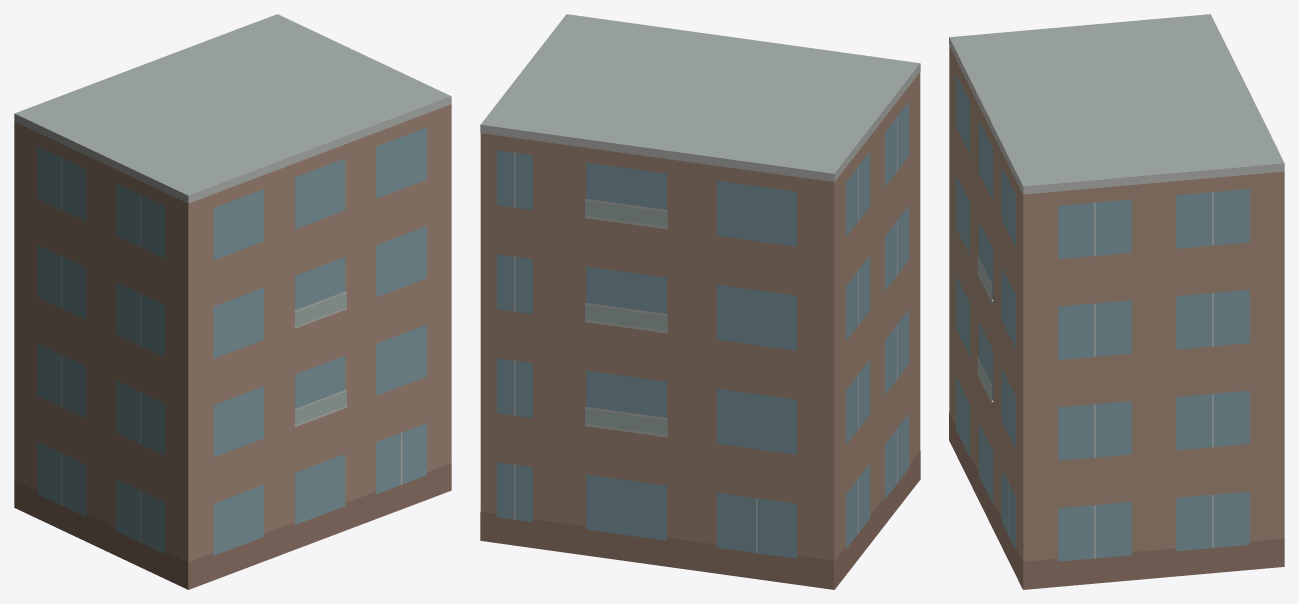
File: residential-764ce86b-7251-4831-b0d7-eb91beacb3c1.glb
The picture shows the model from 3 angles, left to right: view 1: azimuth 30°, elevation 25°; view 2: azimuth 150°, elevation 25°; view 3: azimuth 270°, elevation 25°; orthographic projection. The views are drawn at different scales.
Visible parts, largest first — view 1: residential-764ce86b-7251-4831-b0d7-eb91beacb3c1.tmp; view 2: residential-764ce86b-7251-4831-b0d7-eb91beacb3c1.tmp; view 3: residential-764ce86b-7251-4831-b0d7-eb91beacb3c1.tmp.
Part boxes in pixels (bbox=[...]): residential-764ce86b-7251-4831-b0d7-eb91beacb3c1.tmp: bbox=[14, 14, 451, 589]; residential-764ce86b-7251-4831-b0d7-eb91beacb3c1.tmp: bbox=[480, 14, 920, 589]; residential-764ce86b-7251-4831-b0d7-eb91beacb3c1.tmp: bbox=[949, 14, 1284, 589].
Size of the model in its own units: 11.2 by 12.2 by 9.21.
